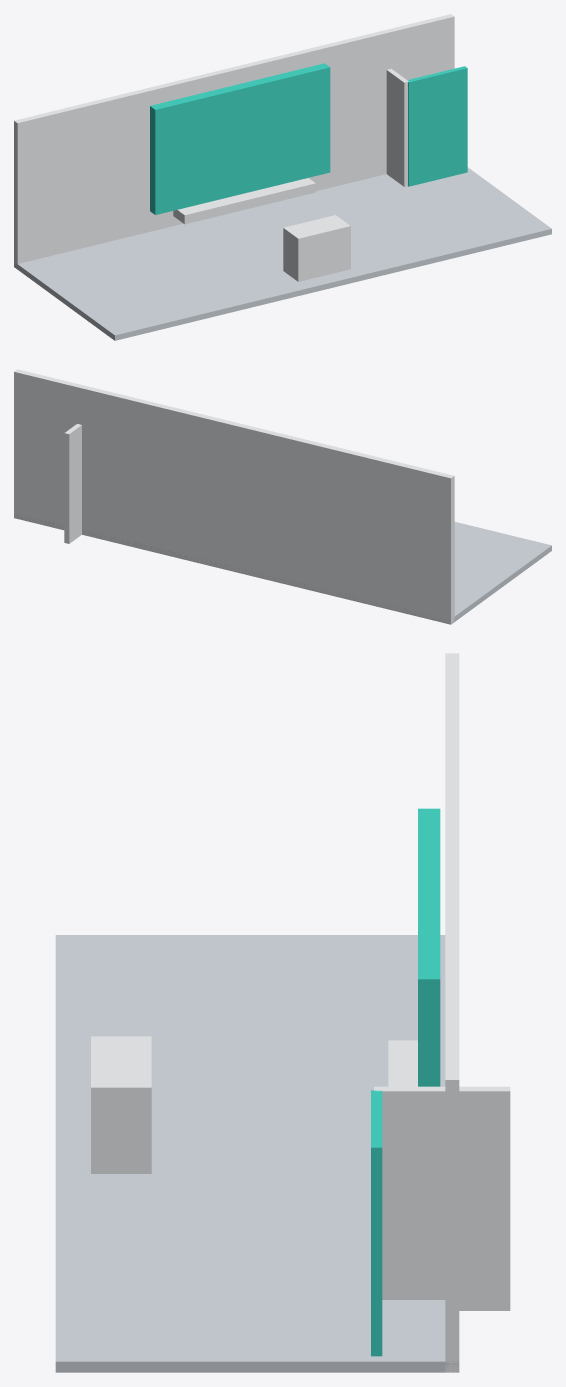
The picture shows the model from 3 angles, top to bottom: view 1: azimuth 30°, elevation 25°; view 2: azimuth 150°, elevation 25°; view 3: azimuth 270°, elevation 25°; orthographic projection. The views are drawn at different scales.
Visible parts, largest first — view 1: Exhibition Booth Concept; view 2: Exhibition Booth Concept; view 3: Exhibition Booth Concept.
Part boxes in pixels (bbox=[...]): Exhibition Booth Concept: bbox=[14, 14, 551, 340]; Exhibition Booth Concept: bbox=[14, 369, 551, 624]; Exhibition Booth Concept: bbox=[55, 653, 510, 1372].
Size of the model in its own units: 10 by 3.2 by 4.51.
